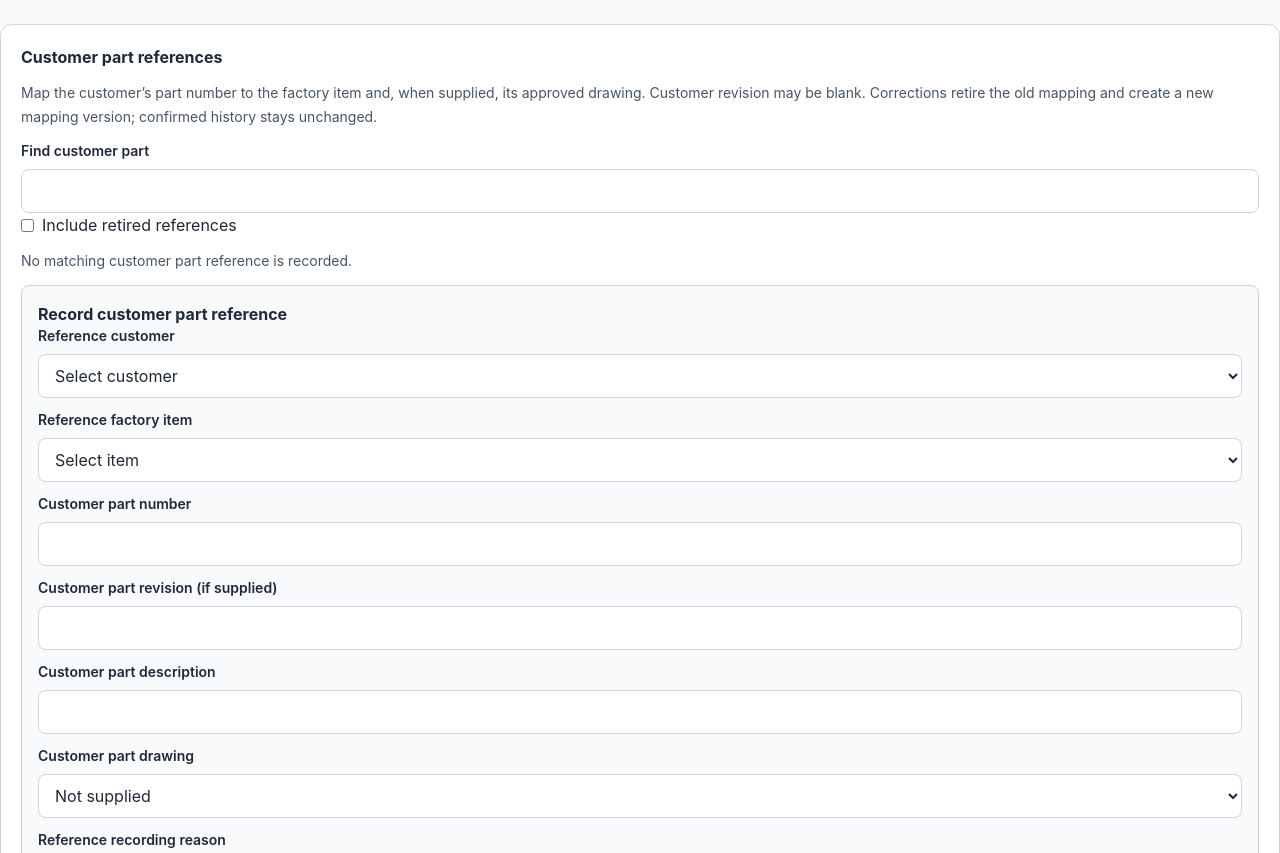
filters retired history but retains the original mapping and retirement reason on demand
This screenshot has width=1280, height=853.
expect the text "SAMPLE-SKU · SAMPLE customer specification · Mapping v1" is not shown: met
What coordinates should you click on to do the following:
click the checkbox labelled "Include retired references"
I would click on:
 (28, 225)
Its box is [21,218,34,232].
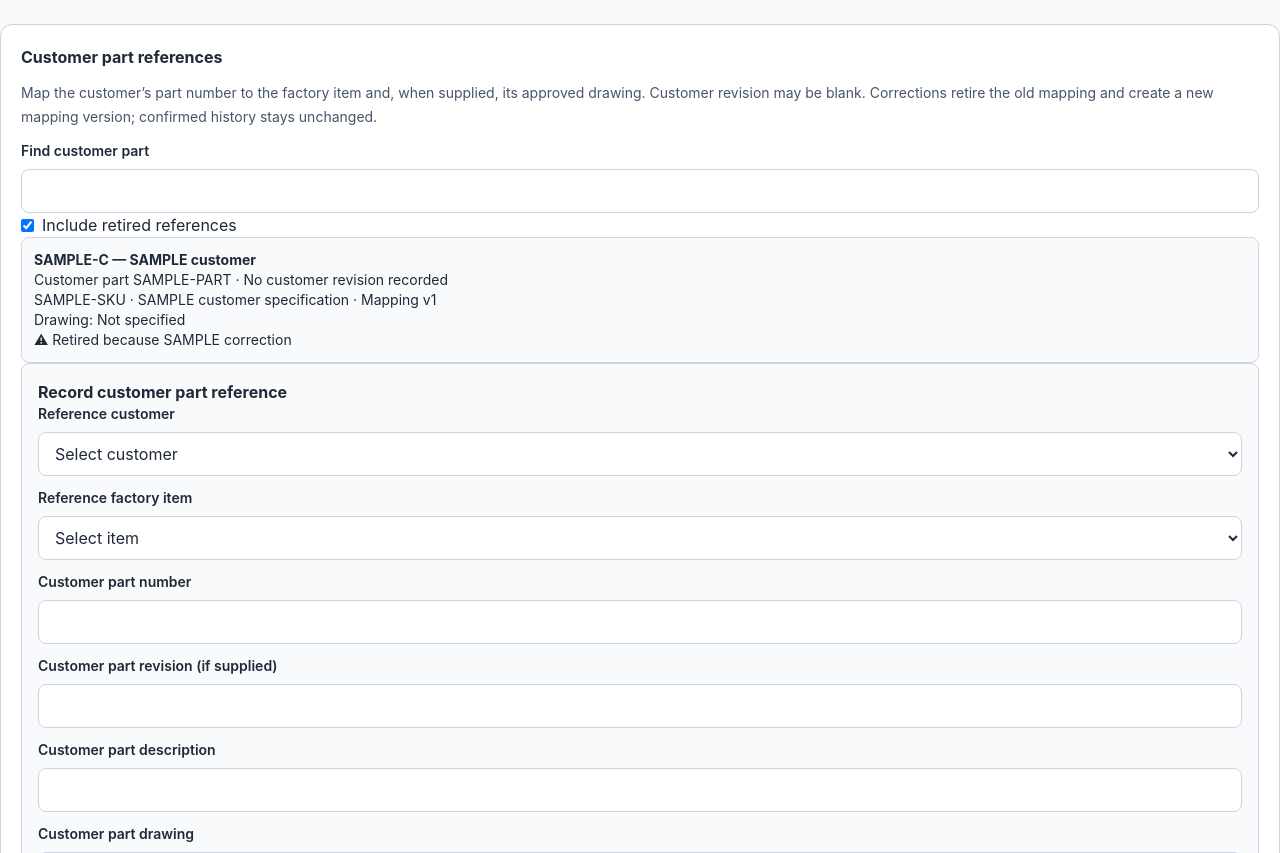
expect the text "⚠ Retired because SAMPLE correction" is shown: met, box [34,331,292,348]
expect the text "Customer part SAMPLE-PART · No customer revision recorded" is shown: met, box [34,271,448,288]
